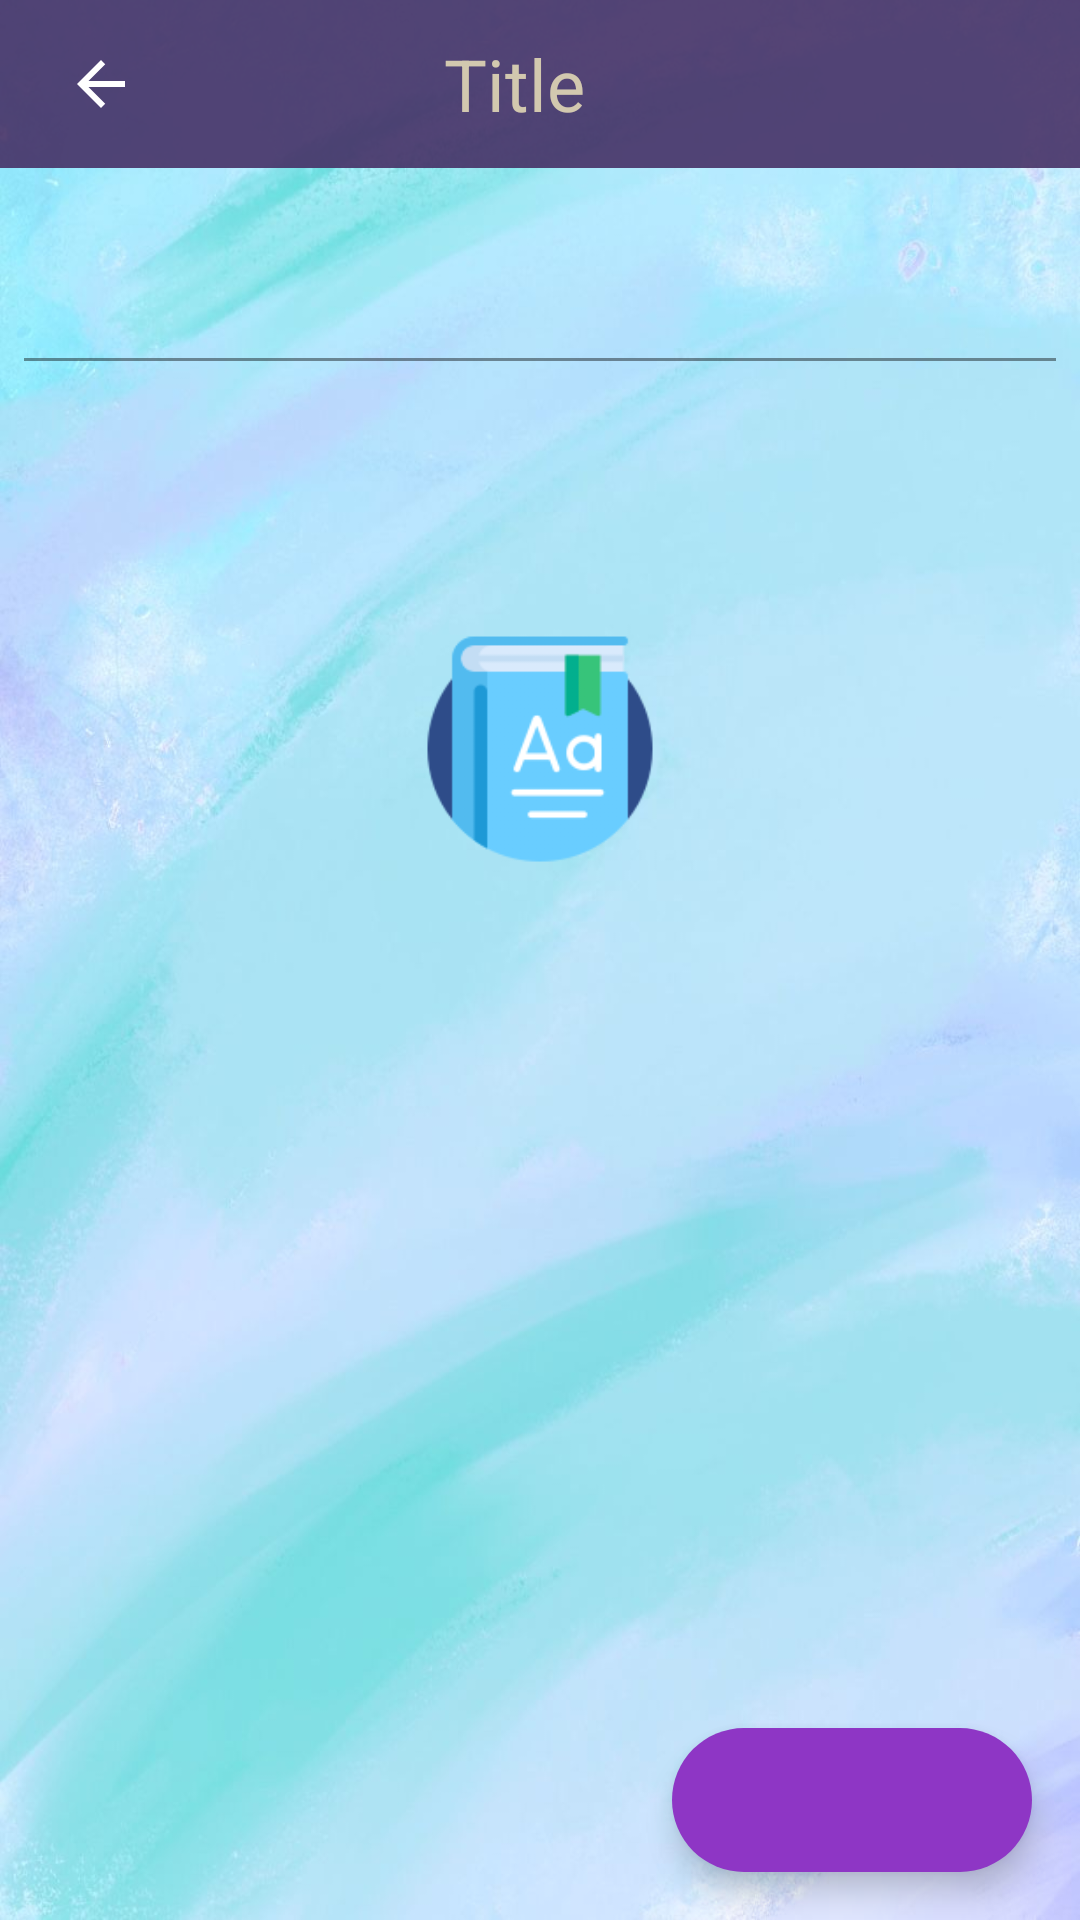

Named icons in this screenshot (1080w x 1920h) and their bounding boxes, (x1, y1, x2, y2):
day night back: (77, 60, 125, 108)
